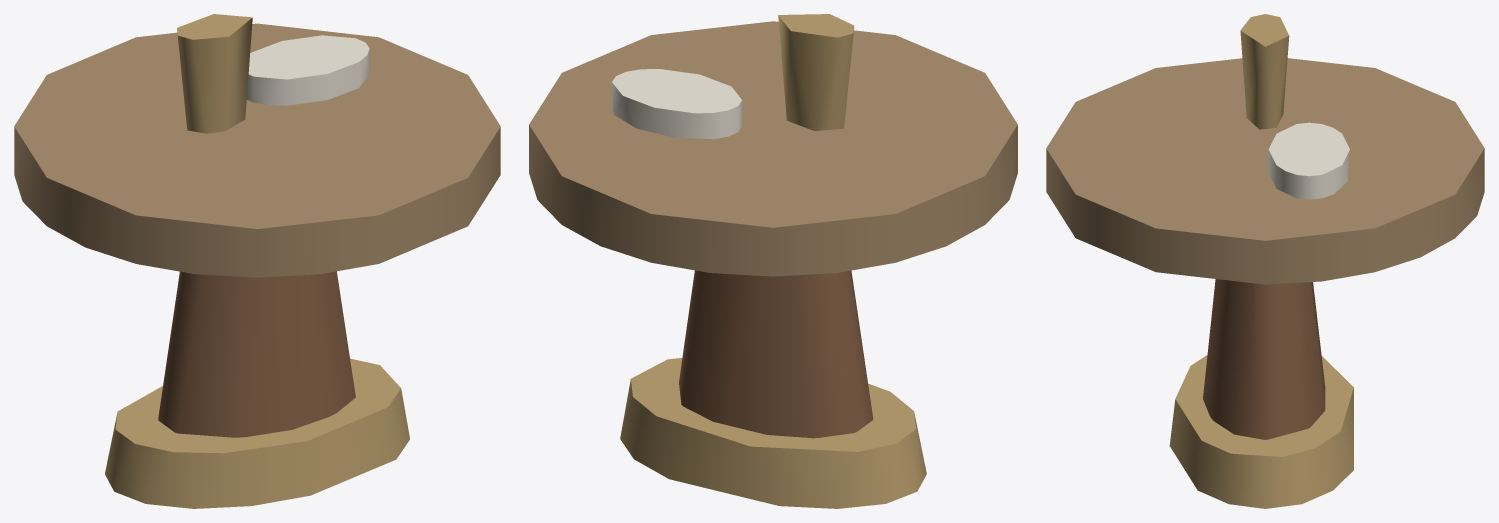
Rendered from table-21-3.lod.glb.
3 renders of one model, left to right at view 1: azimuth 30°, elevation 25°; view 2: azimuth 150°, elevation 25°; view 3: azimuth 270°, elevation 25°, orthographic. The views are drawn at different scales.
Visible parts, largest first — view 1: part (×4); view 2: part (×4); view 3: part (×4).
Part boxes in pixels (x1,y1,x2,y2): part (×4): (14,14,500,508); part (×4): (529,14,1017,508); part (×4): (1046,14,1484,508).
Size of the model in its own units: 1 by 1 by 1.
